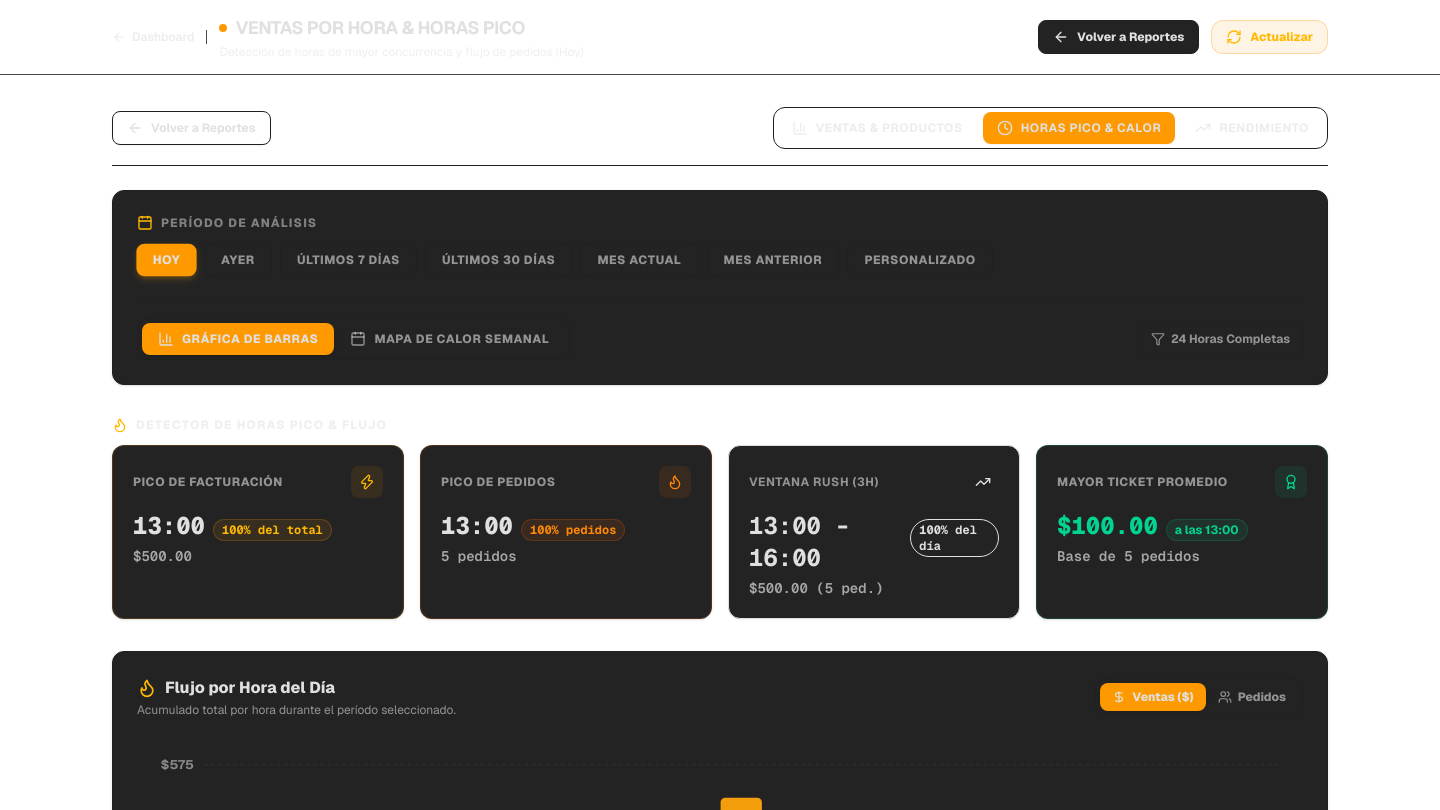
Test: HourlyAnalyticsView Component › should toggle only active hours filter
The width and height of the screenshot is (1440, 810).
Click the button "24 Horas Completas": {"x": 1220, "y": 339} [1138,322,1303,356]
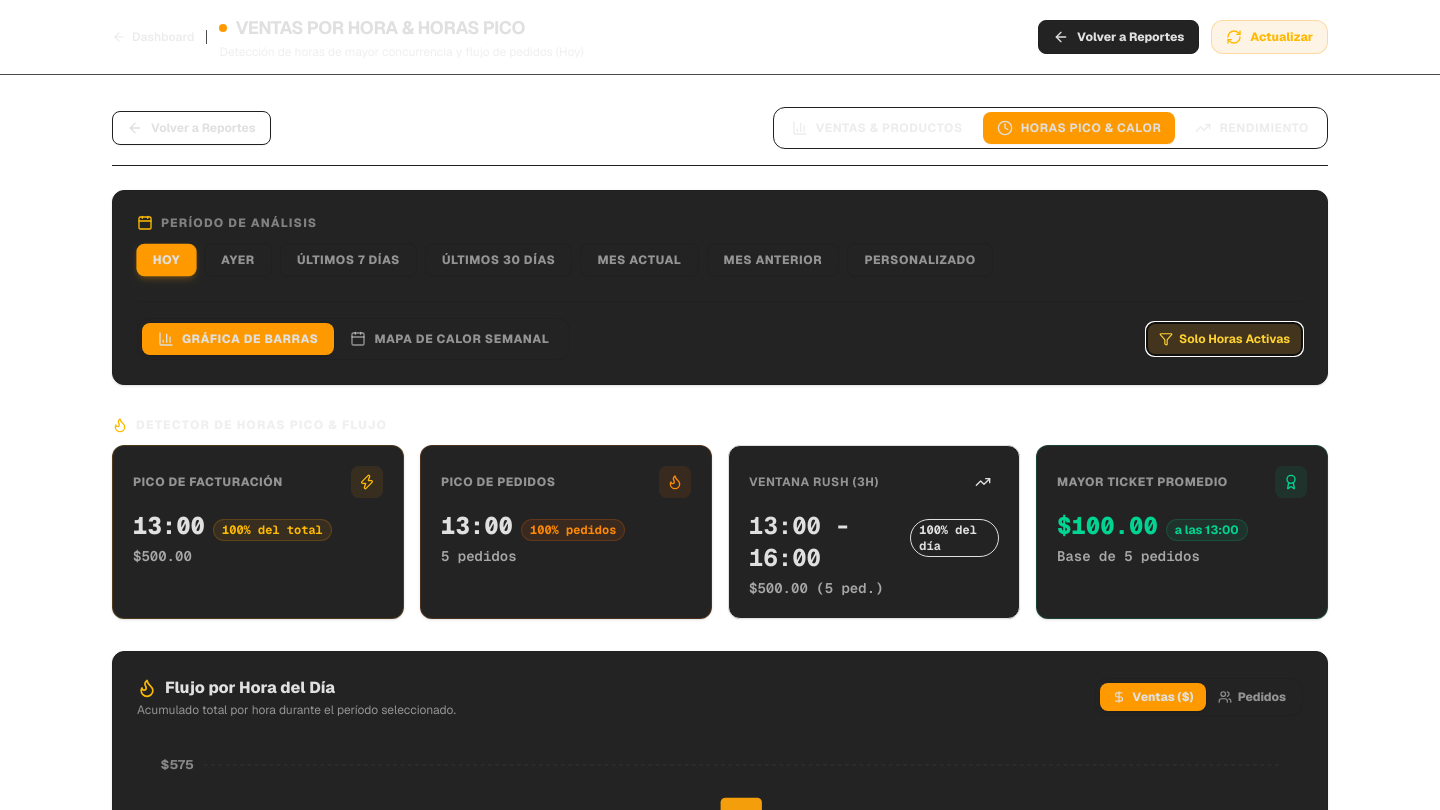
expect the button "Solo Horas Activas" is shown: met, box [1146,322,1303,356]
